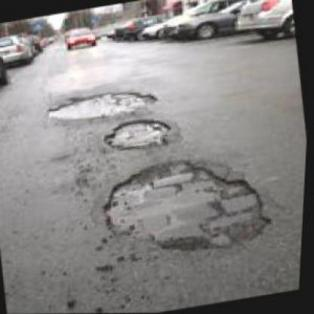Hueco: (92, 141, 288, 273), (42, 81, 166, 127), (100, 114, 179, 155)
